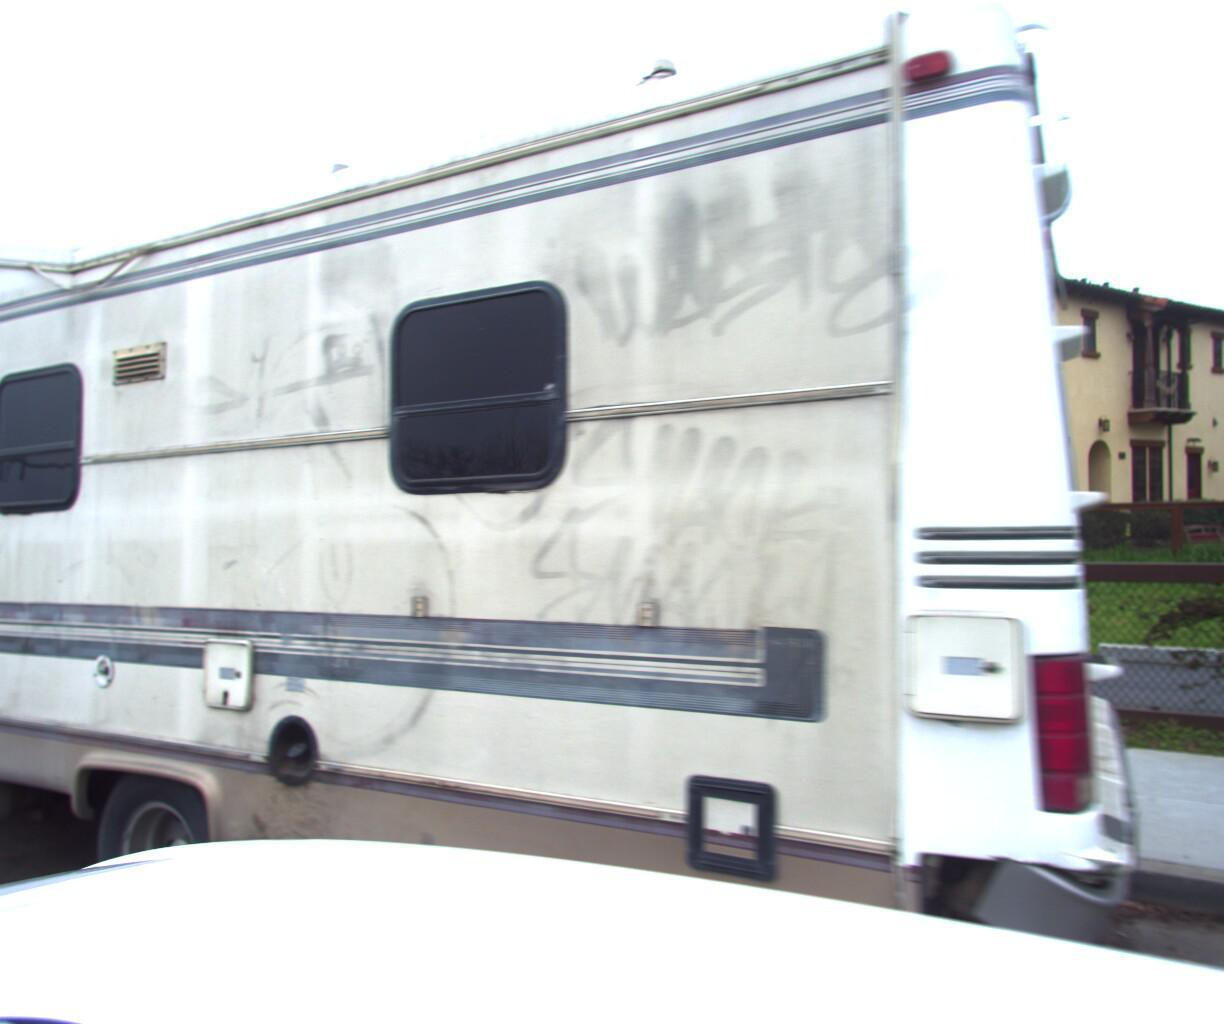other_vehicle: (0, 0, 1186, 1024)
